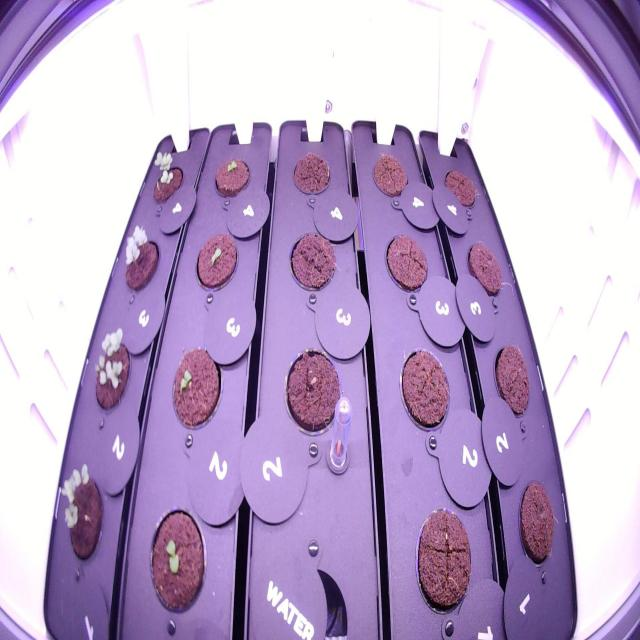germination: (142, 499, 212, 620), (53, 454, 109, 572), (165, 342, 227, 439), (88, 318, 139, 418), (115, 217, 163, 301), (190, 226, 242, 297), (144, 144, 190, 213), (210, 149, 254, 202)
pod: (408, 501, 479, 624), (279, 336, 344, 445), (393, 336, 457, 441), (511, 469, 558, 574), (486, 332, 534, 430), (283, 224, 340, 297), (379, 224, 432, 302), (460, 230, 508, 302), (366, 142, 412, 212), (287, 144, 336, 202), (438, 154, 480, 221)
